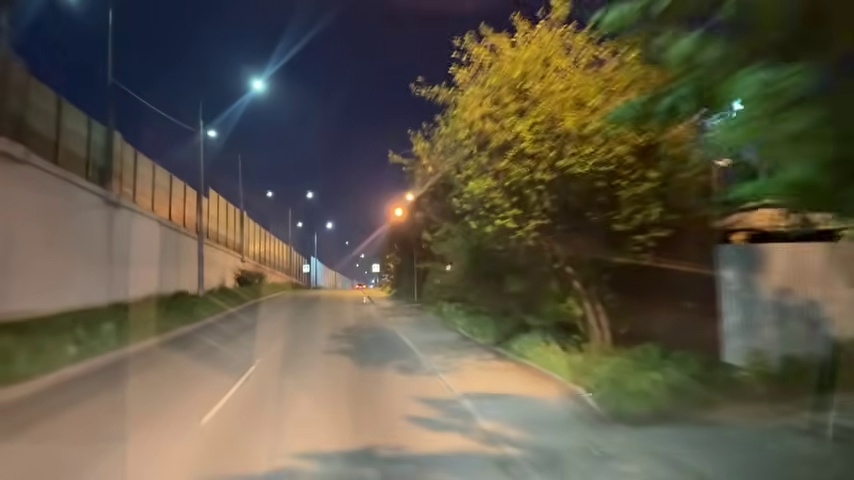acesa: (387, 199, 412, 223), (248, 77, 267, 94), (204, 126, 220, 143)
